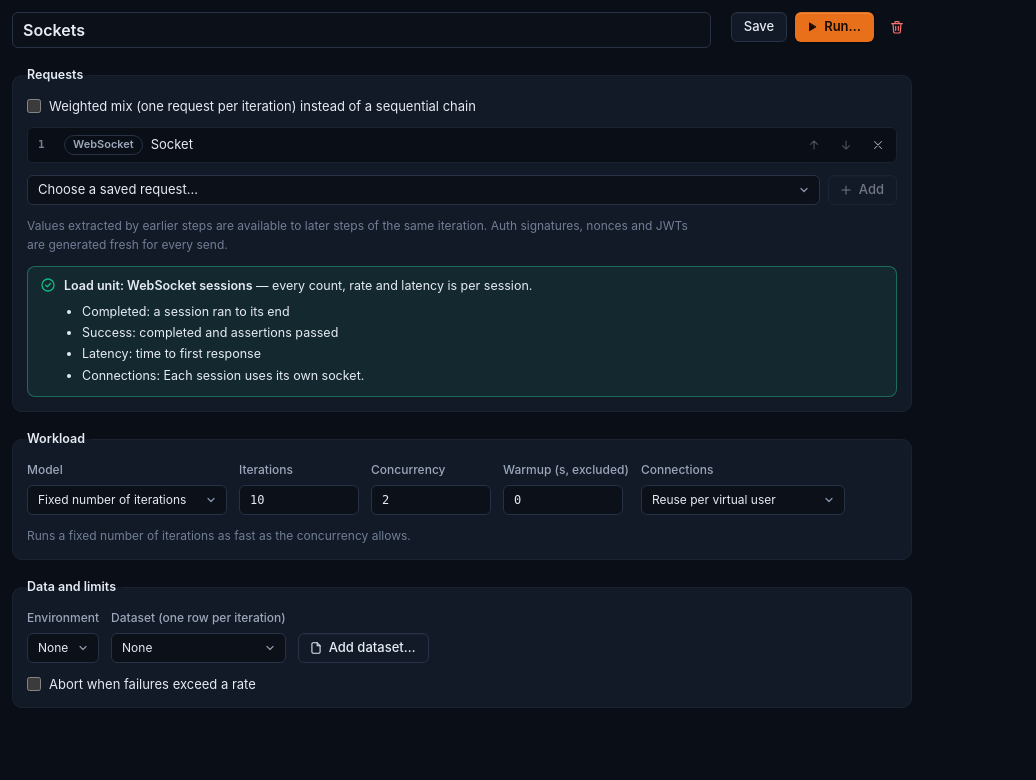
Test: PlanEditor › names the unit for a single-protocol plan and keeps Run enabled
Expected: the element with test id "load-unit" shows "Load unit: WebSocket sessions", [27,266,897,397]
Expected: the button "Run…" is enabled, [795,12,874,42]
Note: Removing the request clears the unit (nothing to measure).
Click the button named "Remove": (878, 145) [866,133,890,157]
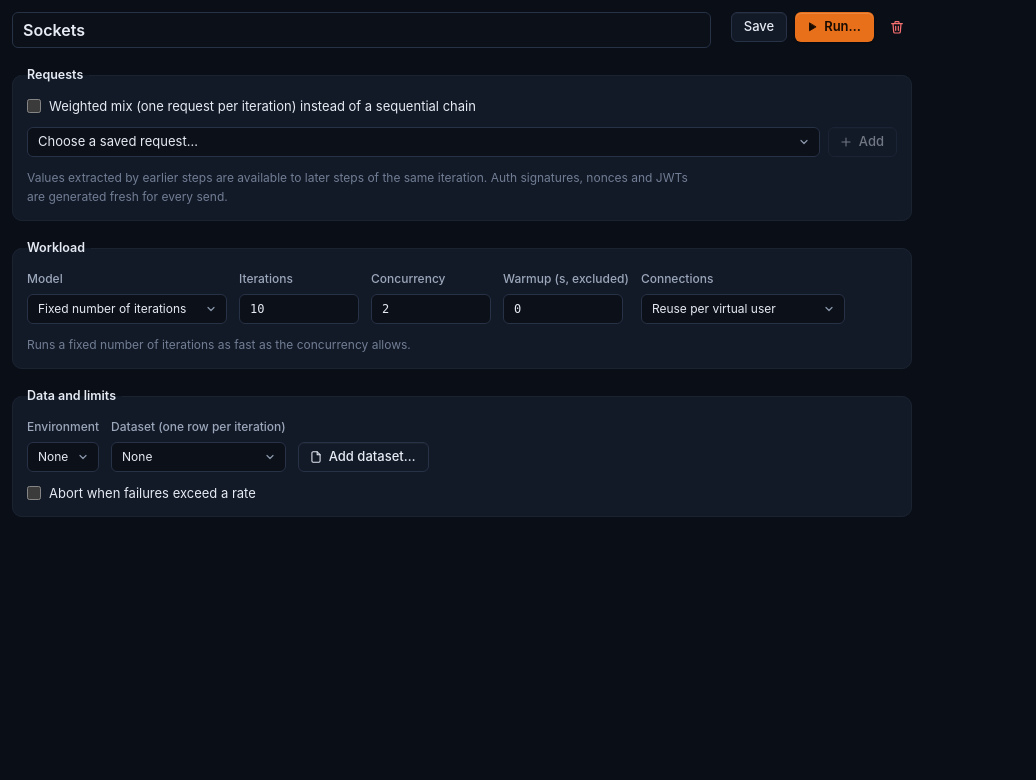
Expected: the element with test id "load-unit" is gone
